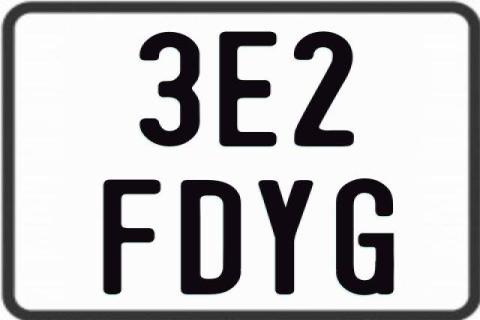0: (291, 29, 357, 148), (138, 31, 203, 147)
D: (181, 178, 245, 294)
E: (218, 32, 278, 150)
F: (101, 180, 159, 294)
G: (334, 176, 398, 293)
Y: (258, 180, 314, 298)
